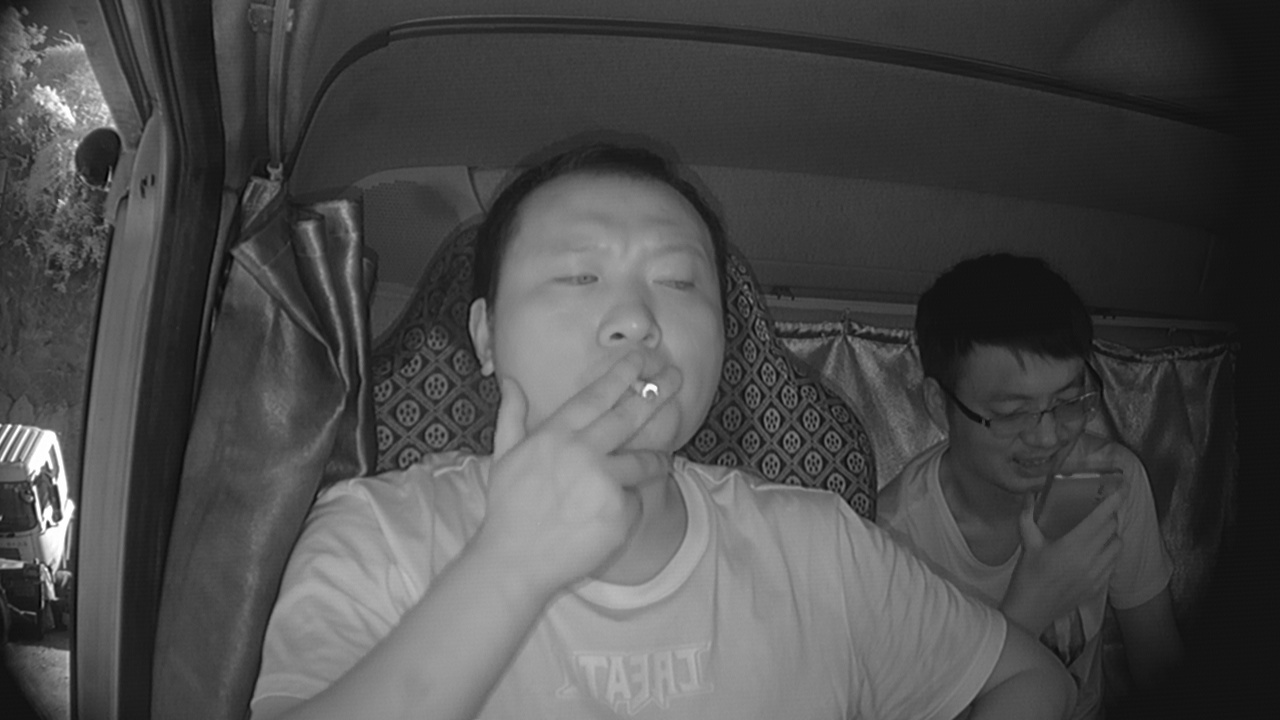hand: (545, 352, 698, 549)
